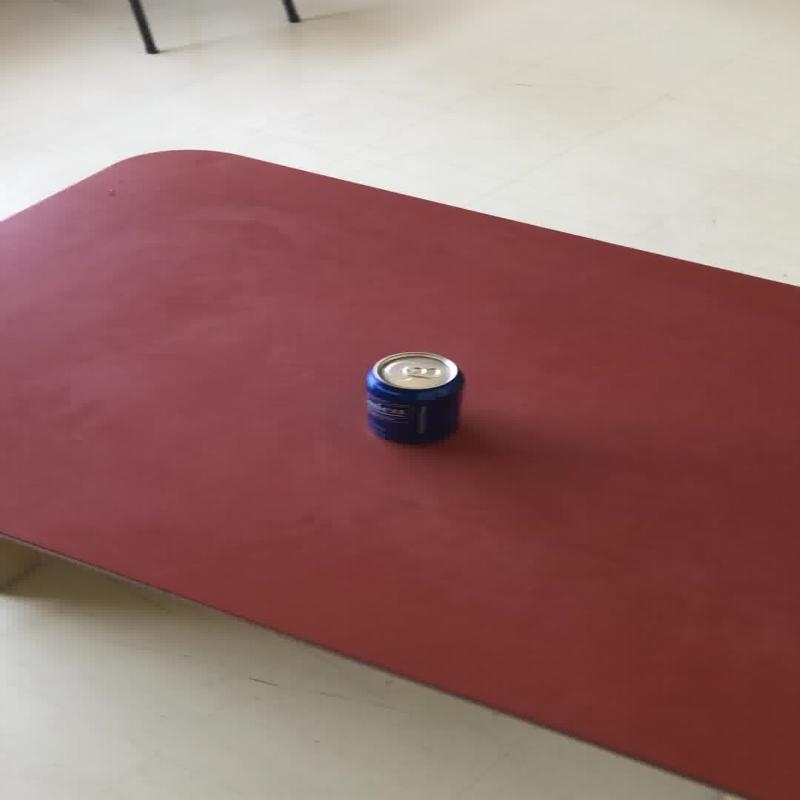tonic: (362, 350, 464, 443)
